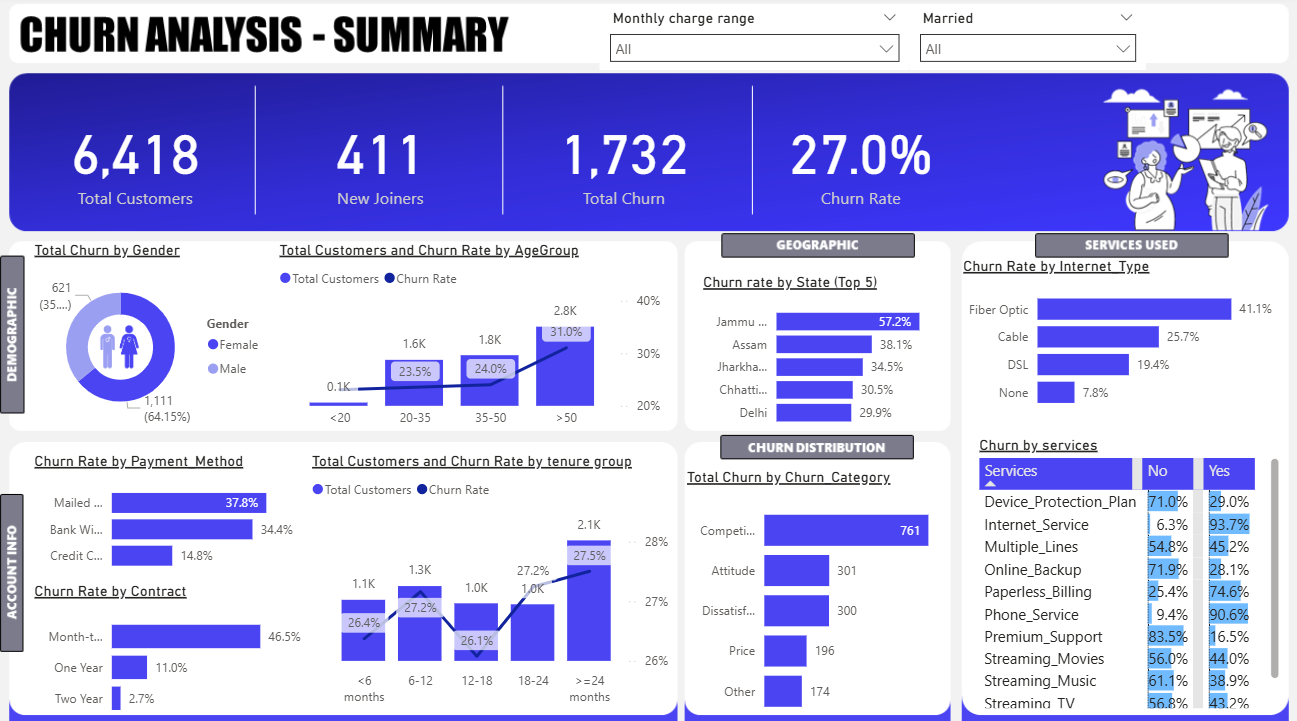

Layout of this report page (visuals, bound fields, positions):
{"tool":"powerbi","page":{"name":"Summary","canvas":[1280,720],"ordinal":0},"visuals":[{"type":"image","box":[88,312,64,64],"z":0},{"type":"card","fields":{"Values":["tbl_measures.Total Customers"]},"box":[16,80,240,160],"z":1000},{"type":"card","fields":{"Values":["tbl_measures.new joiners"]},"box":[256,80,240,160],"z":2000},{"type":"card","fields":{"Values":["tbl_measures.Total churn"]},"box":[496,80,240,160],"z":3000},{"type":"card","fields":{"Values":["tbl_measures.Churn rate"]},"box":[736,80,224,160],"z":4000},{"type":"donutChart","fields":{"Category":["prod_Churn.Gender"],"Y":["tbl_measures.Total churn"]},"box":[32,240,240,192],"z":5000},{"type":"lineClusteredColumnComboChart","fields":{"Category":["mapping_AgeGrp.AgeGroup"],"Y":["tbl_measures.Total Customers"],"Y2":["tbl_measures.Churn rate"]},"box":[272,240,384,192],"z":6000},{"type":"clusteredBarChart","fields":{"Category":["prod_Churn.Payment_Method"],"Y":["tbl_measures.Churn rate"]},"box":[32,448,272,128],"z":7000},{"type":"clusteredBarChart","fields":{"Category":["prod_Churn.Contract"],"Y":["tbl_measures.Churn rate"]},"box":[32,576,272,144],"z":8000},{"type":"lineStackedColumnComboChart","fields":{"Category":["mapping_tenureGrp.tenure group"],"Y":["tbl_measures.Total Customers"],"Y2":["tbl_measures.Churn rate"]},"box":[304,448,360,256],"z":9000},{"type":"clusteredBarChart","title":"Churn rate by State (Top 5)","fields":{"Category":["prod_Churn.State"],"Y":["tbl_measures.Churn rate"]},"box":[688,272,256,160],"z":10000},{"type":"clusteredBarChart","fields":{"Category":["prod_Churn.Churn_Category"],"Y":["tbl_measures.Total churn"]},"box":[672,464,272,256],"z":11000},{"type":"clusteredBarChart","fields":{"Category":["prod_Churn.Internet_Type"],"Y":["tbl_measures.Churn rate"]},"box":[944,256,320,160],"z":12000},{"type":"pivotTable","title":"Churn by services","fields":{"Rows":["prod_services.Services"],"Columns":["prod_services.Status"],"Values":["Sum(prod_services.Churn Status)"]},"box":[960,432,304,272],"z":13000},{"type":"slicer","fields":{"Values":["prod_Churn.Monthly charge status"]},"box":[592,8,304,64],"z":14000},{"type":"slicer","fields":{"Values":["prod_Churn.Married"]},"box":[896,8,232,64],"z":15000}]}

Visuals, with their boxes in screenshot pixels (x1, y1, x2, y2), scaled from the page's 1280x720 canvas onto the 1297x721 screenshot:
image: select_region(89, 312, 154, 377)
card - tbl_measures.Total Customers: select_region(16, 80, 259, 240)
card - tbl_measures.new joiners: select_region(259, 80, 503, 240)
card - tbl_measures.Total churn: select_region(503, 80, 746, 240)
card - tbl_measures.Churn rate: select_region(746, 80, 973, 240)
donutChart - prod_Churn.Gender x tbl_measures.Total churn: select_region(32, 240, 276, 433)
lineClusteredColumnComboChart - mapping_AgeGrp.AgeGroup x tbl_measures.Total Customers: select_region(276, 240, 665, 433)
clusteredBarChart - prod_Churn.Payment_Method x tbl_measures.Churn rate: select_region(32, 449, 308, 577)
clusteredBarChart - prod_Churn.Contract x tbl_measures.Churn rate: select_region(32, 577, 308, 720)
lineStackedColumnComboChart - mapping_tenureGrp.tenure group x tbl_measures.Total Customers: select_region(308, 449, 673, 705)
"Churn rate by State (Top 5)" clusteredBarChart: select_region(697, 272, 957, 433)
clusteredBarChart - prod_Churn.Churn_Category x tbl_measures.Total churn: select_region(681, 465, 957, 720)
clusteredBarChart - prod_Churn.Internet_Type x tbl_measures.Churn rate: select_region(957, 256, 1281, 417)
"Churn by services" pivotTable: select_region(973, 433, 1281, 705)
slicer - prod_Churn.Monthly charge status: select_region(600, 8, 908, 72)
slicer - prod_Churn.Married: select_region(908, 8, 1143, 72)
